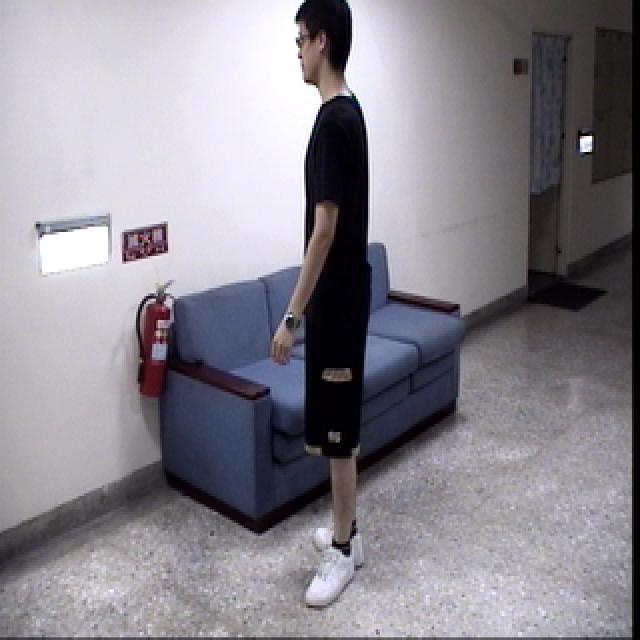stand: (247, 0, 395, 617)
